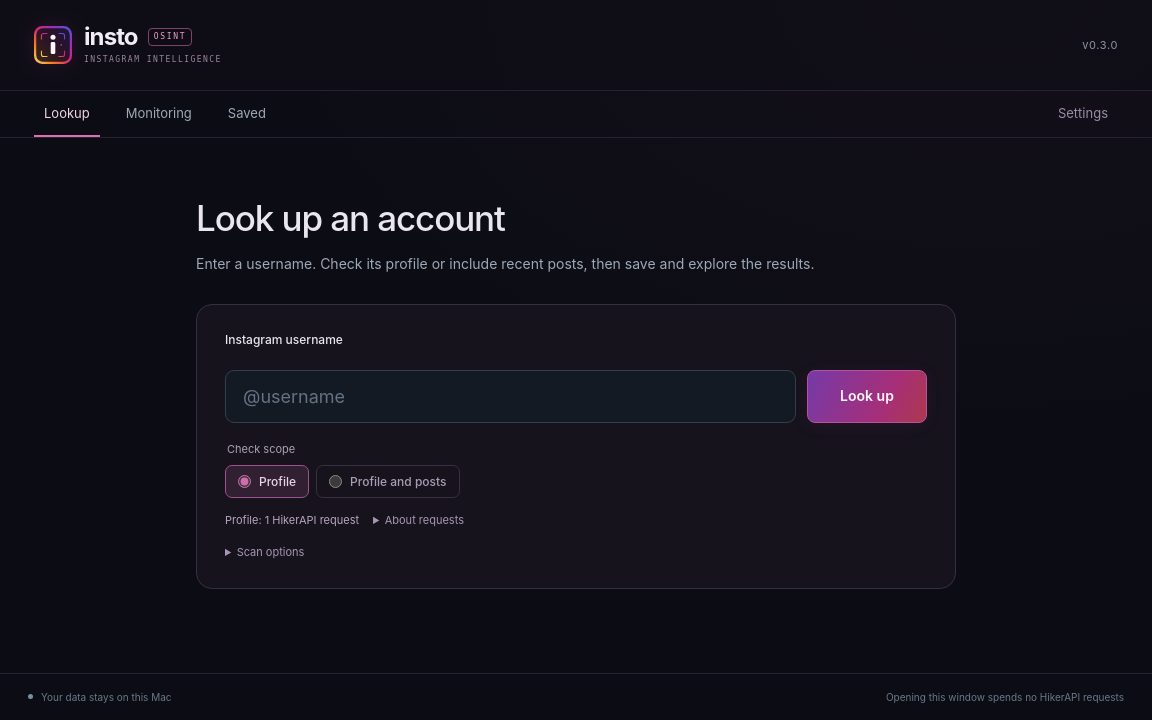
Scenario: application integration › a stale setup refresh shows the global banner and blocks service and settings changes, not navigation
Click the tab with id "tab-settings".
click(1083, 114)  # box x1=1048 y1=91 x2=1118 y2=137
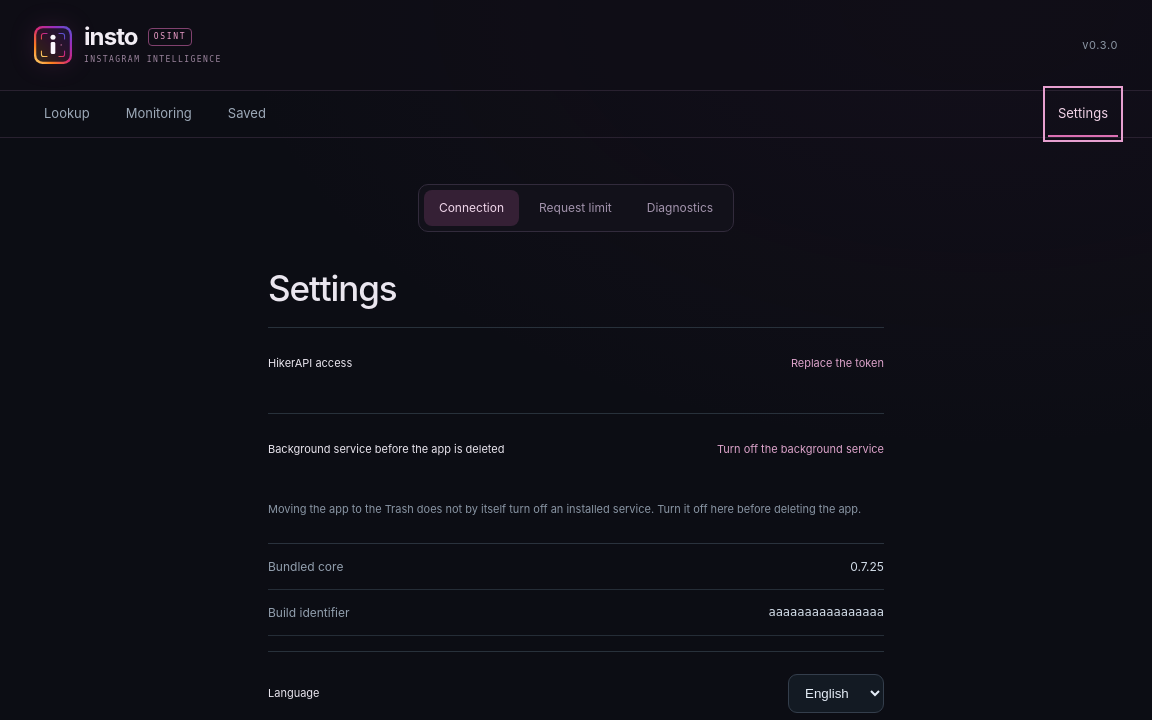
Click the button with id "tab-service".
click(680, 208)  # box x1=632 y1=190 x2=728 y2=226
(page scrolled)
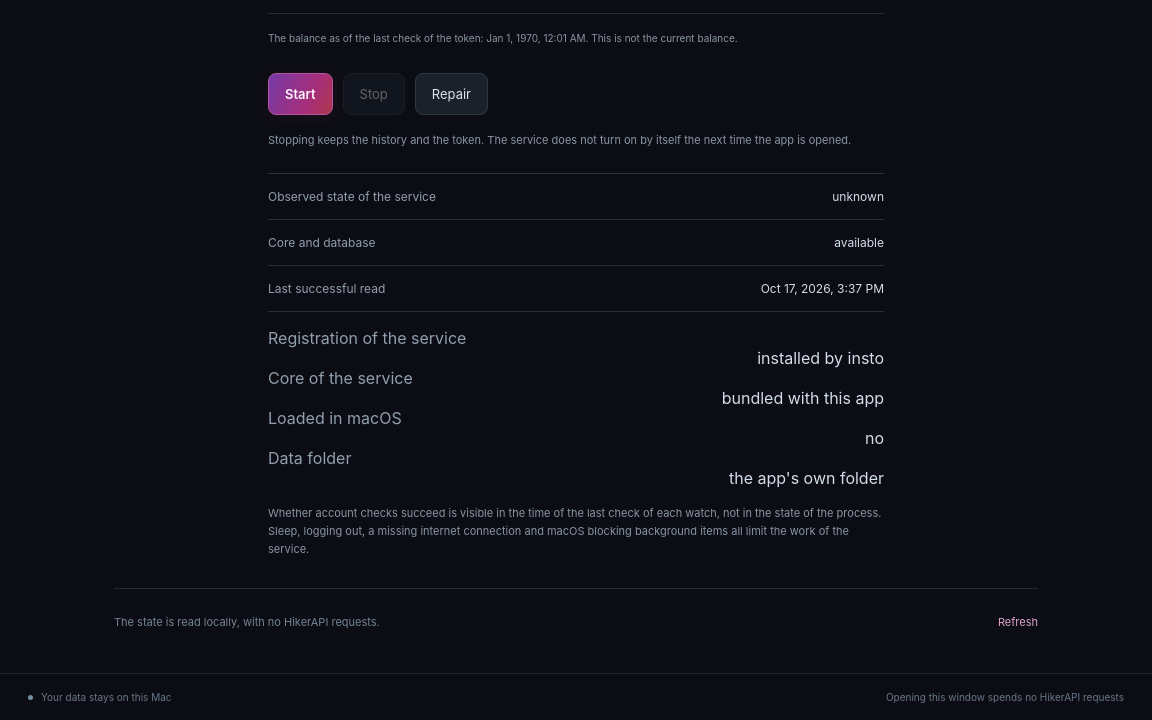
Click the button "Refresh".
click(1018, 622)  # box x1=998 y1=609 x2=1038 y2=635
(page scrolled)
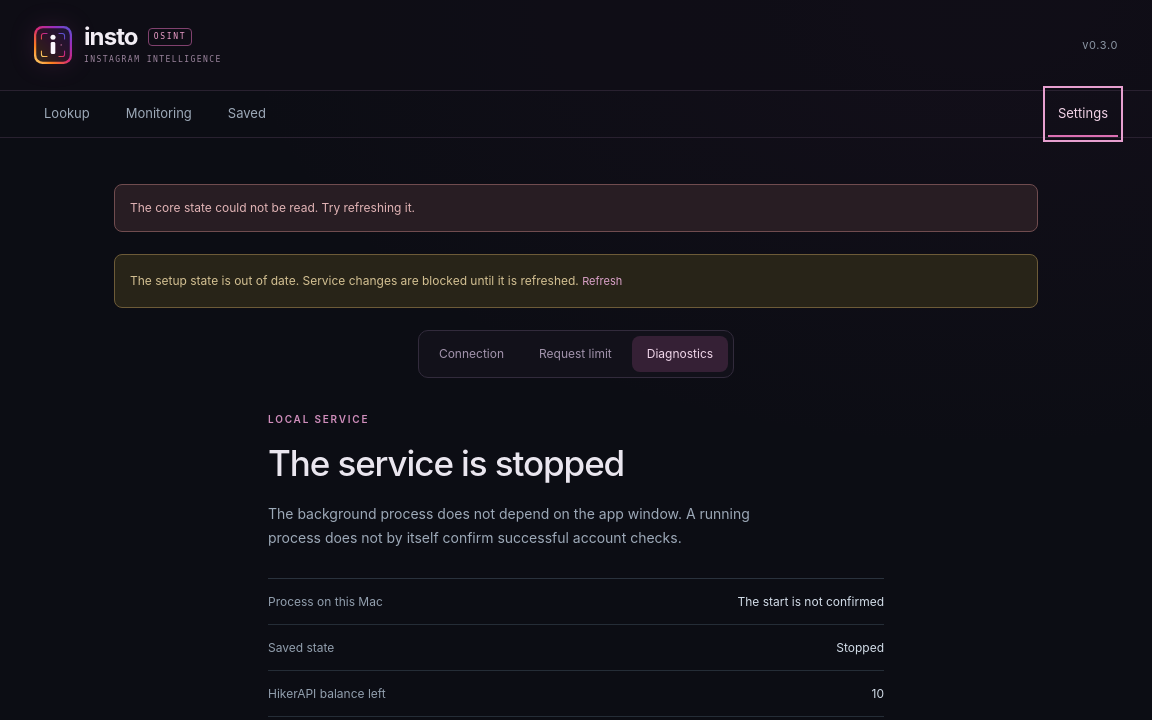
Result: the text "The service is stopped" is shown at x1=268 y1=442 x2=624 y2=484
Result: the text "The setup state is out of date" is shown at x1=130 y1=273 x2=582 y2=288
Result: the message "The core state could not be read. Try refreshing it." is shown at x1=114 y1=184 x2=1038 y2=232
Click the tab with id "tab-settings".
click(1083, 114)  # box x1=1048 y1=91 x2=1118 y2=137
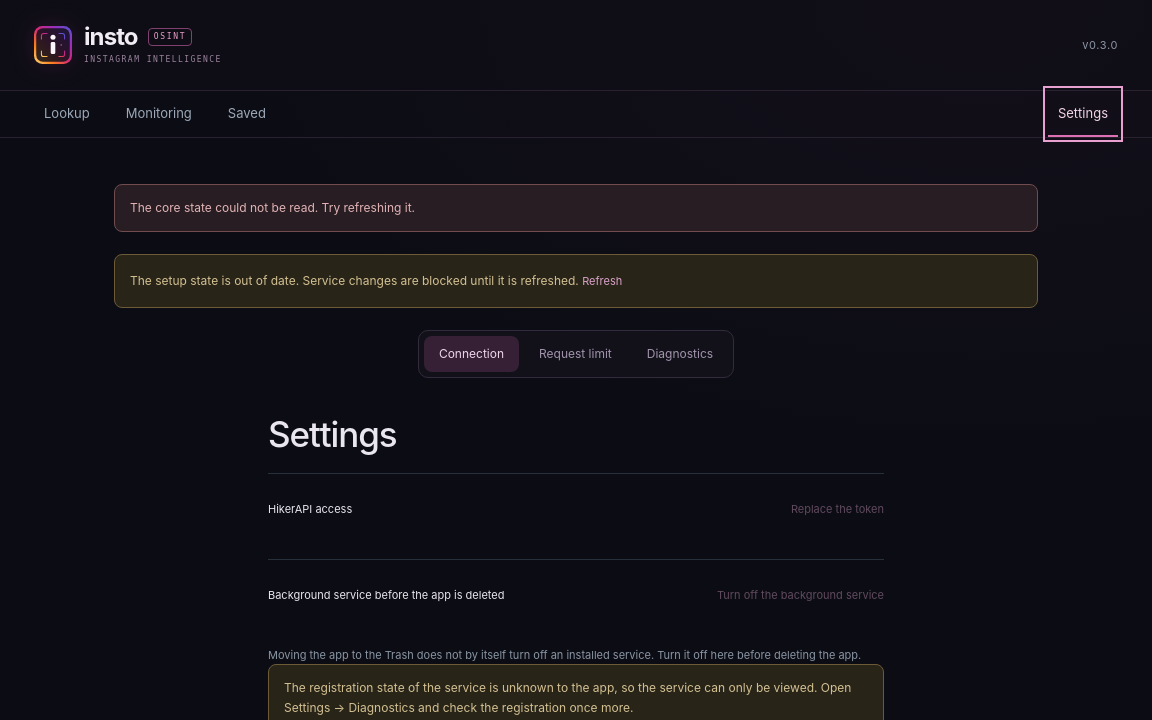
Result: the text "The setup state is out of date" is shown at x1=130 y1=273 x2=582 y2=288
Result: the button "Replace the token" is disabled at x1=791 y1=496 x2=884 y2=522
Result: the button "Turn off the background service" is disabled at x1=717 y1=582 x2=884 y2=608
